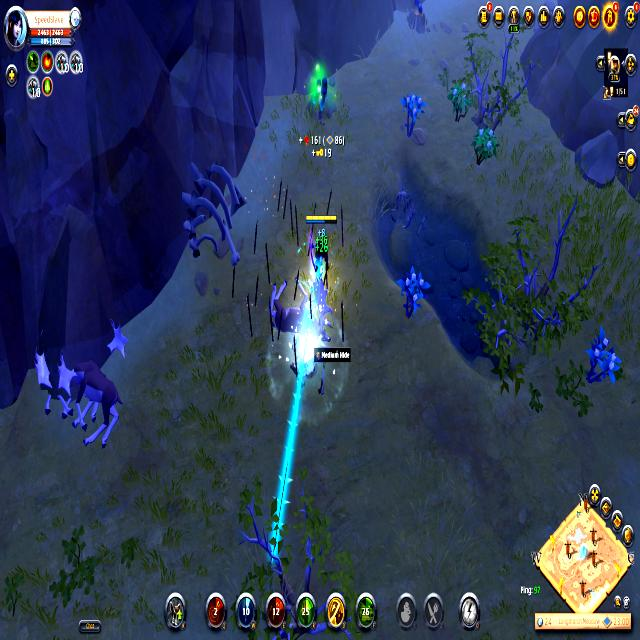hide: (586, 326, 621, 389), (397, 262, 428, 321), (400, 90, 426, 148), (472, 124, 498, 170), (448, 78, 472, 124)
mob: (31, 322, 142, 448), (263, 278, 336, 382)
player: (303, 61, 341, 127), (406, 0, 432, 37)
red: (304, 210, 336, 286)
